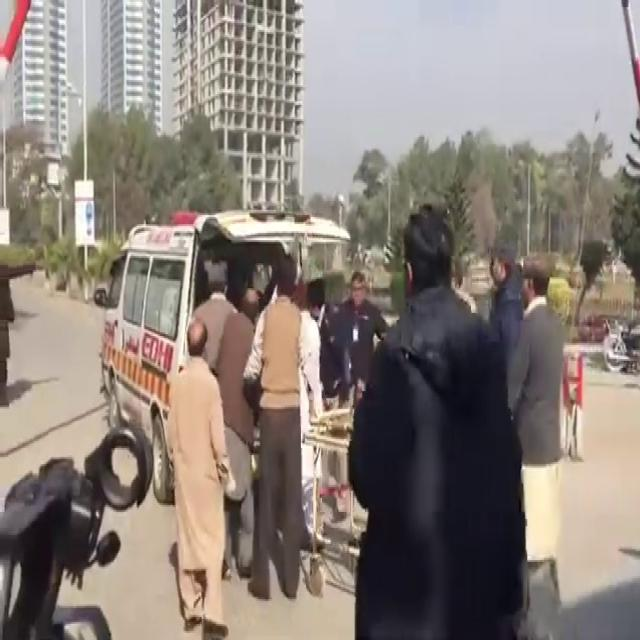ambulance: (94, 224, 292, 481)
